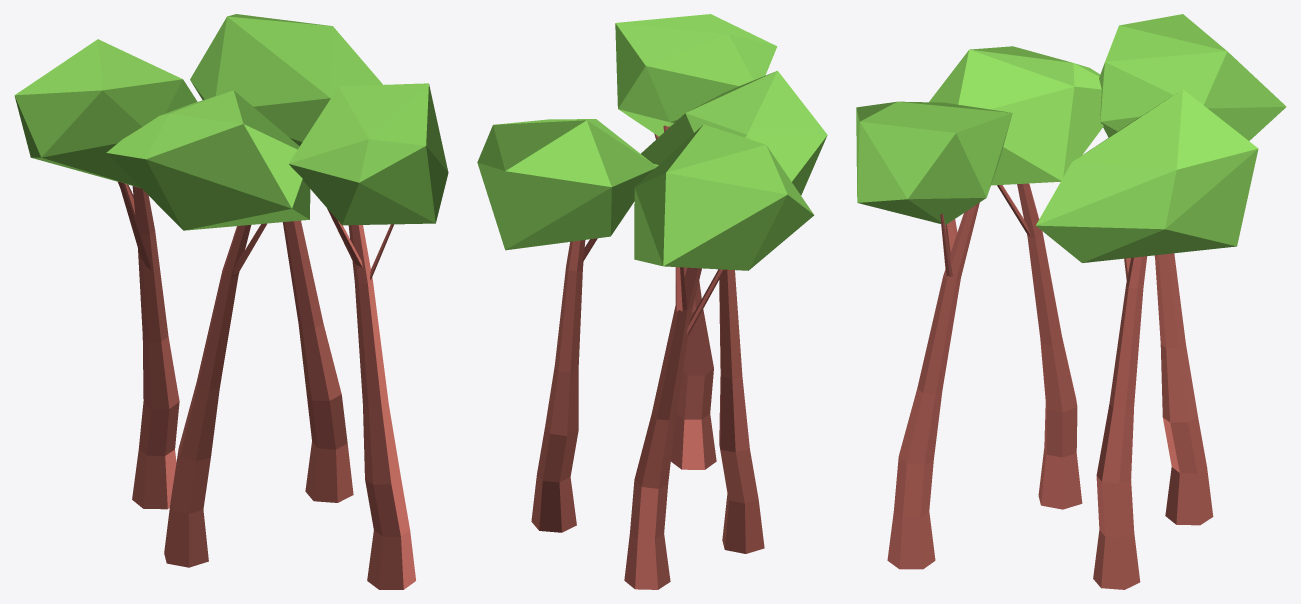
The model's file is Bush2_summer.FBX.
The picture shows the model from 3 angles, left to right: view 1: azimuth 30°, elevation 25°; view 2: azimuth 150°, elevation 25°; view 3: azimuth 270°, elevation 25°; orthographic projection. The views are drawn at different scales.
Parts seen in each view (by area): view 1: bush_sml; view 2: bush_sml; view 3: bush_sml.
Boxes of the visible parts, x1,y1,x2,y2 form: bush_sml: (14, 14, 448, 589); bush_sml: (477, 14, 827, 589); bush_sml: (856, 14, 1286, 589).
Bounding box in the file's own units: 0.8248 × 1.09 × 0.9282.
